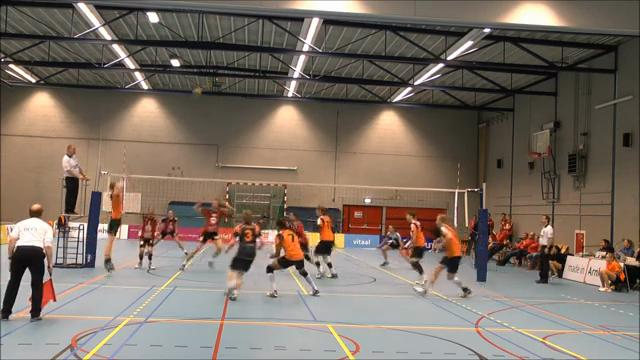attacco: (97, 174, 127, 276)
